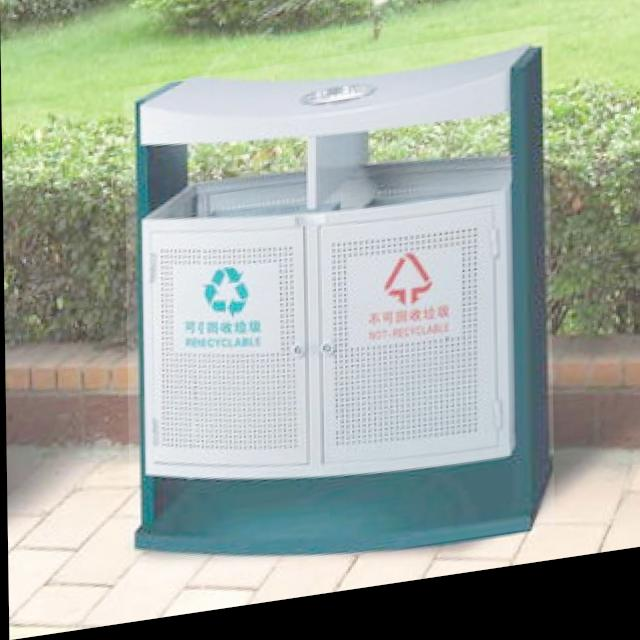garbage_bin: (123, 42, 553, 592)
